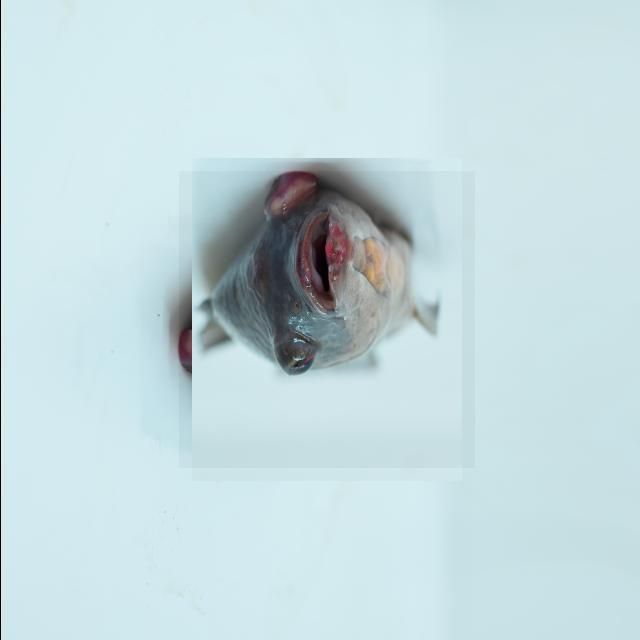Columnaris Disease: (178, 171, 474, 468)
